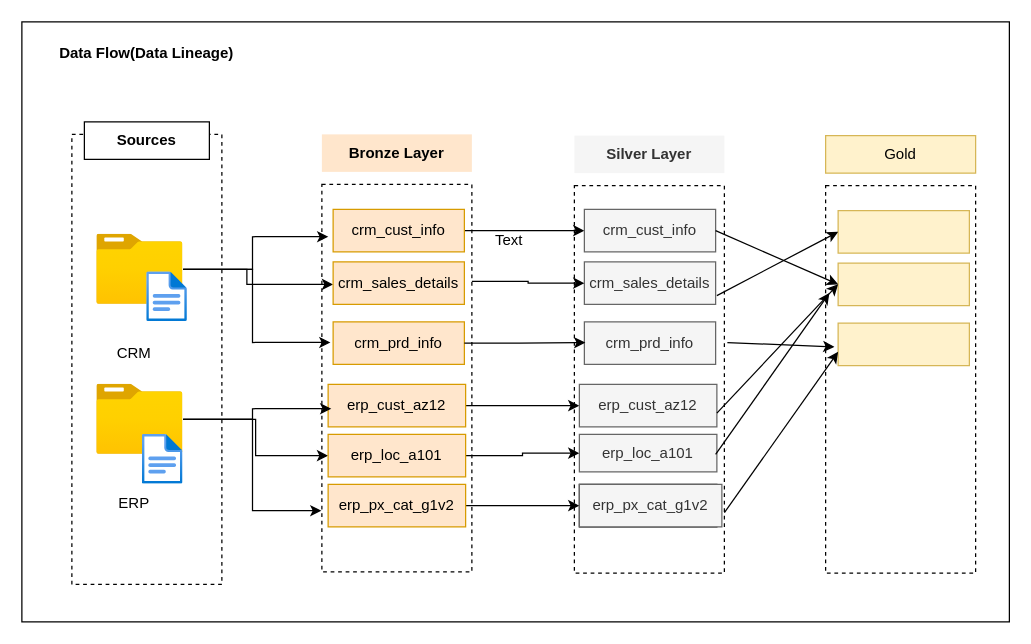
This 1031x644 diagram has some shape labels left out. Here are the shapes that lost their labels. From the top down, the box of each, then its label:
(837, 209, 969, 253): fact_sales
(837, 262, 969, 306): dim_customers
(837, 322, 969, 366): dim_products
